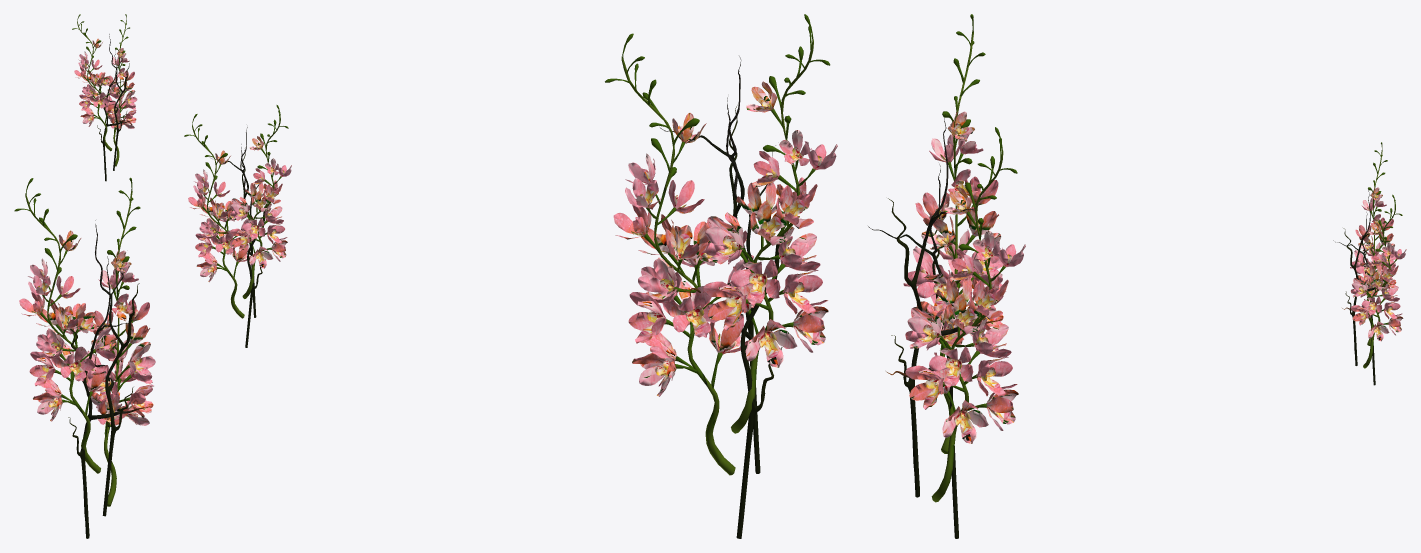
The model's file is pot plant 2.glb.
3 renders of one model, left to right at view 1: azimuth 30°, elevation 25°; view 2: azimuth 150°, elevation 25°; view 3: azimuth 270°, elevation 25°, orthographic. The views are drawn at different scales.
Parts seen in each view (by area): view 1: 红花-花, 红花-花.003, 红花-花.002, 红花-花.001; view 2: 红花-花, 红花-花.003, 红花-花.002, 红花-花.001; view 3: 红花-花.003, 红花-花, 红花-花.001, 红花-花.002.
Part boxes in pixels (x1,y1,x2,y2): 红花-花: [14, 178, 139, 516]; 红花-花.003: [65, 177, 155, 538]; 红花-花.002: [72, 14, 129, 170]; 红花-花.001: [96, 14, 137, 181]; 红花-花: [660, 14, 837, 473]; 红花-花.003: [605, 33, 784, 538]; 红花-花.002: [211, 105, 291, 317]; 红花-花.001: [184, 114, 267, 347]; 红花-花.003: [868, 127, 1025, 538]; 红花-花: [888, 14, 1005, 497]; 红花-花.001: [1333, 194, 1406, 385]; 红花-花.002: [1343, 142, 1396, 365].
Bounding box in the file's own units: 0.6025 × 0.7744 × 0.766.
Materials: 5 (5 with a texture image).
